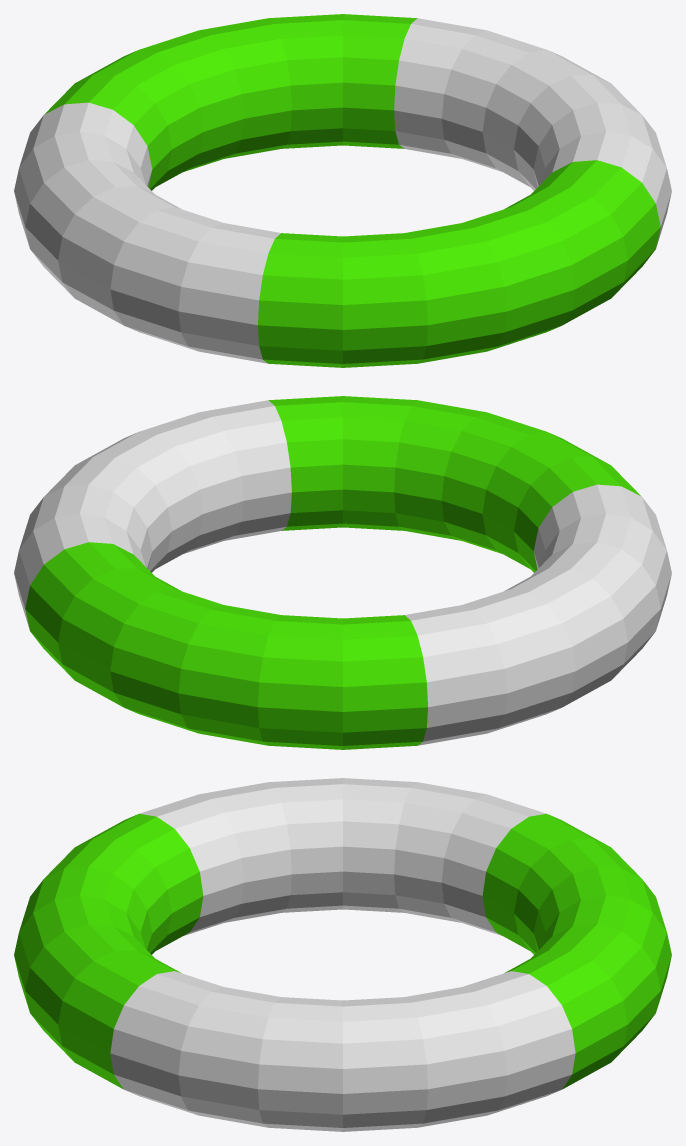
Rendered from LifeRingGreenFBX.fbx.
The picture shows the model from 3 angles, top to bottom: view 1: azimuth 30°, elevation 25°; view 2: azimuth 150°, elevation 25°; view 3: azimuth 270°, elevation 25°; orthographic projection.
Parts seen in each view (by area): view 1: LifeRing; view 2: LifeRing; view 3: LifeRing.
Boxes of the visible parts, left/top/right/bottom form: LifeRing: left=14, top=14, right=671, bottom=367; LifeRing: left=14, top=396, right=671, bottom=749; LifeRing: left=14, top=778, right=671, bottom=1131.
Size of the model in its own units: 2.5 by 0.5 by 2.5.
